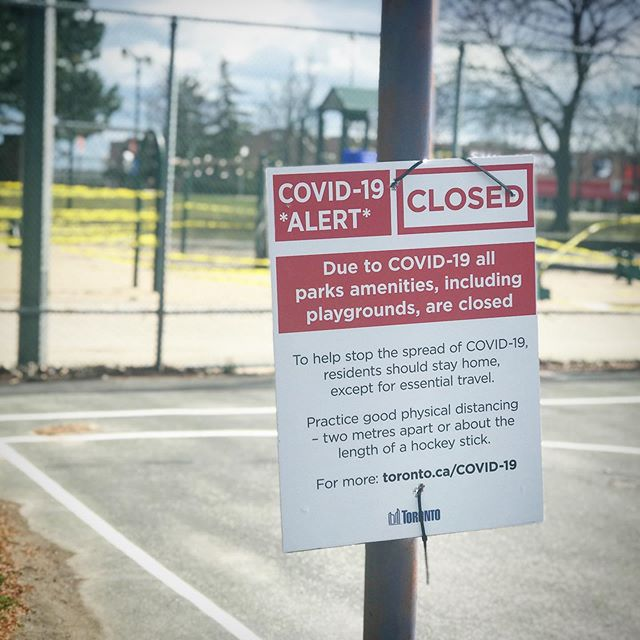sign: (266, 158, 544, 535)
